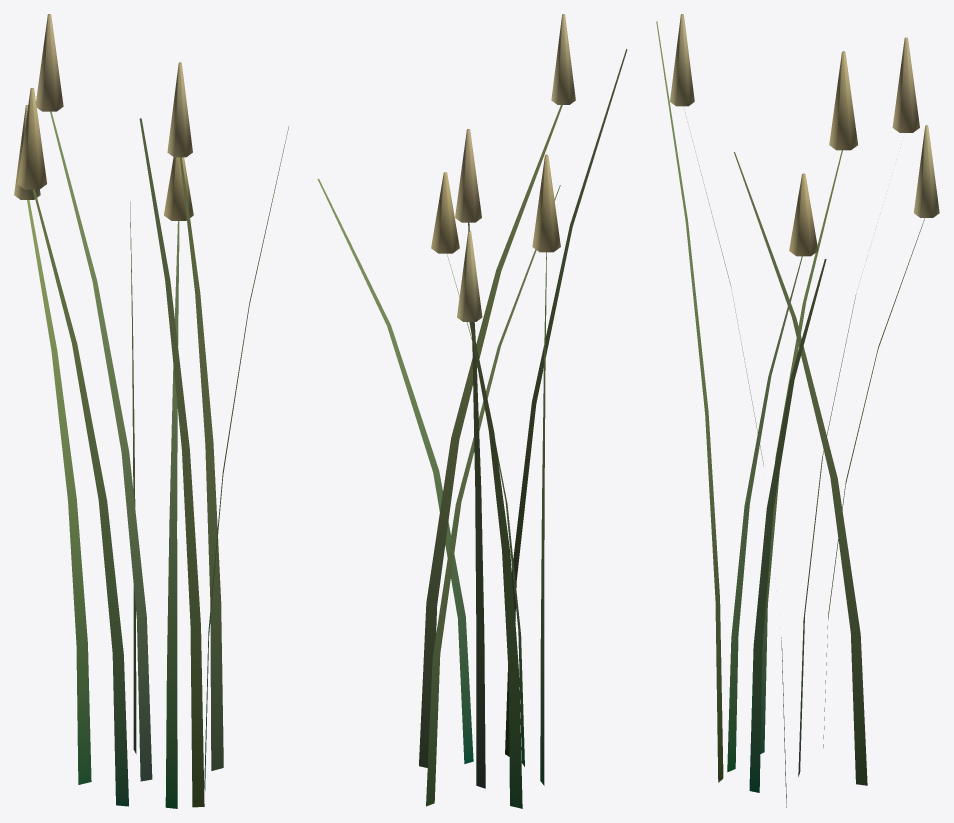
File: env_grass_wispy_seedhead_01.glb
3 views of the same model, side by side, from view 1: azimuth 30°, elevation 25°; view 2: azimuth 150°, elevation 25°; view 3: azimuth 270°, elevation 25° (orthographic). The views are drawn at different scales.
Parts seen in each view (by area): view 1: grass_wispy_seedhead; view 2: grass_wispy_seedhead; view 3: grass_wispy_seedhead.
Boxes of the visible parts, x1,y1,x2,y2 form: grass_wispy_seedhead: (14,14,288,808); grass_wispy_seedhead: (317,14,627,808); grass_wispy_seedhead: (656,14,939,807).
Bounding box in the file's own units: 0.1672 × 0.474 × 0.1627.
